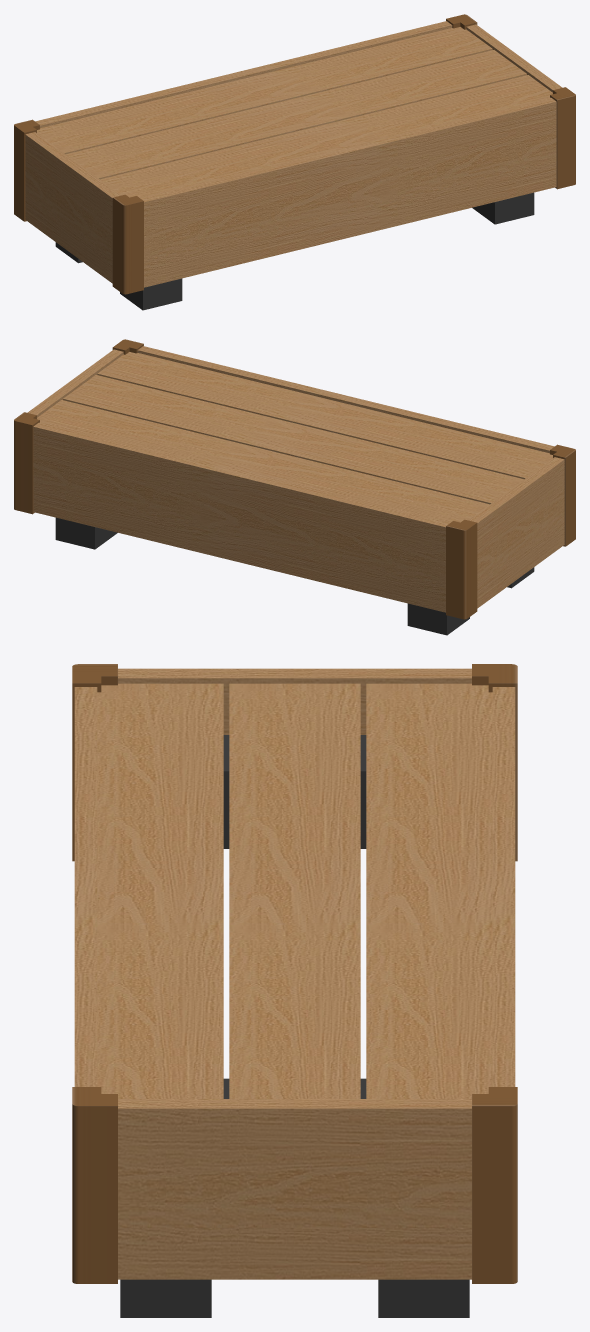
File: ecowoodreal-step_amber3.fbx
3 views of the same model, one above another, from view 1: azimuth 30°, elevation 25°; view 2: azimuth 150°, elevation 25°; view 3: azimuth 270°, elevation 25° (orthographic). The views are drawn at different scales.
Parts seen in each view (by area): view 1: ecowoodreal-step_amber2; view 2: ecowoodreal-step_amber2; view 3: ecowoodreal-step_amber2.
Boxes of the visible parts, x1,y1,x2,y2 form: ecowoodreal-step_amber2: (14, 14, 575, 310); ecowoodreal-step_amber2: (14, 339, 575, 635); ecowoodreal-step_amber2: (72, 664, 517, 1317).
Bounding box in the file's own units: 91.6 × 23.35 × 39.
3 materials, 3 textured.
